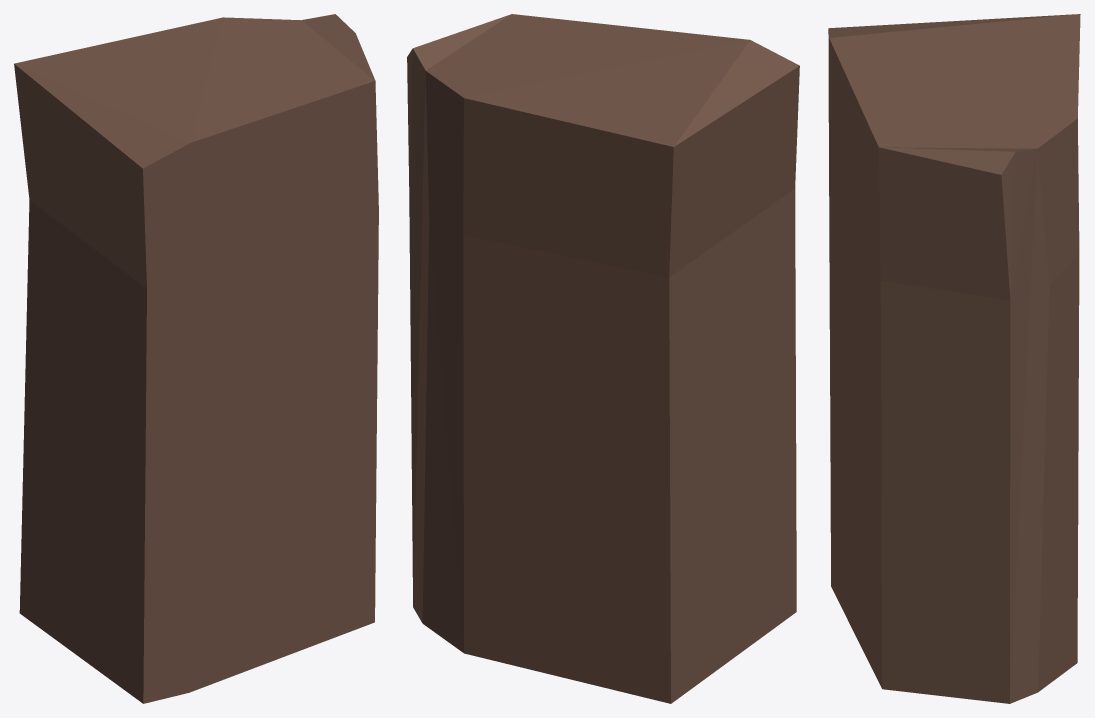
Rendered from Rock.004.fbx.
The picture shows the model from 3 angles, left to right: view 1: azimuth 30°, elevation 25°; view 2: azimuth 150°, elevation 25°; view 3: azimuth 270°, elevation 25°; orthographic projection. The views are drawn at different scales.
Visible parts, largest first — view 1: Rock.004; view 2: Rock.004; view 3: Rock.004.
Part boxes in pixels (box(x1,y1,x2,y2)): Rock.004: box(14, 14, 378, 703); Rock.004: box(407, 14, 799, 703); Rock.004: box(828, 14, 1080, 703).
Bounding box in the file's own units: 282 × 493 × 204.
